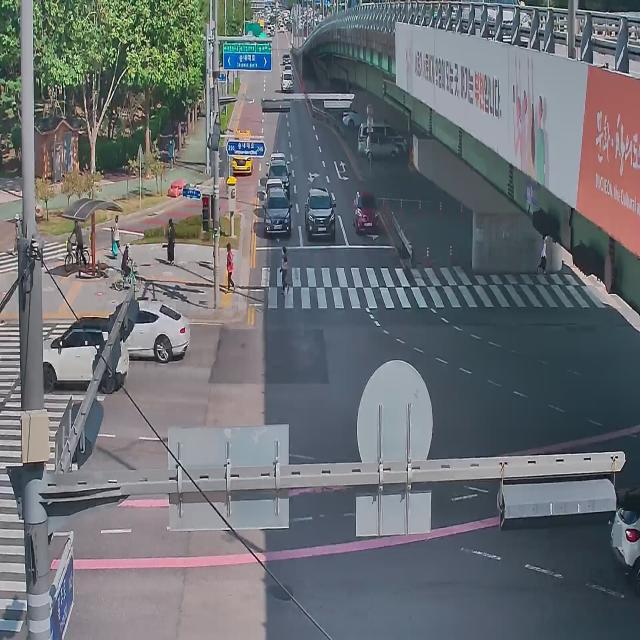Car: (34, 310, 129, 392), (106, 288, 195, 366), (610, 506, 640, 570), (304, 187, 336, 240), (262, 192, 293, 242), (353, 190, 379, 234), (364, 132, 402, 161), (356, 121, 404, 143), (268, 160, 294, 190), (231, 155, 253, 176), (264, 178, 284, 195), (266, 150, 287, 164)
Truck: (280, 67, 295, 90)
